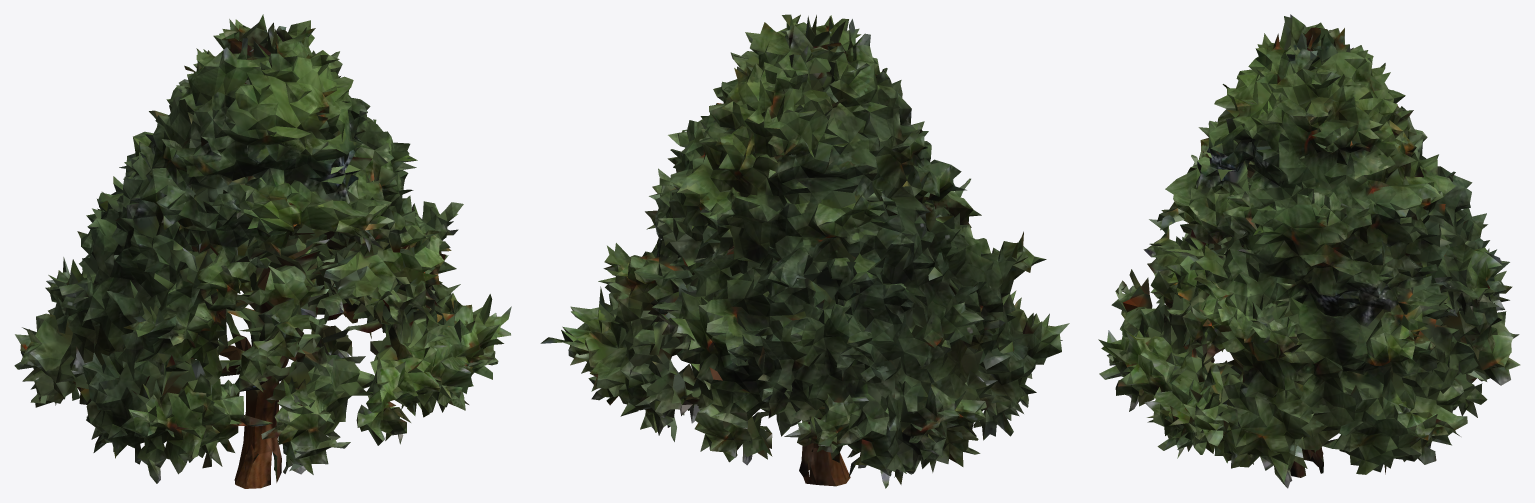
Rendered from traveler_env_coast_scorpion_grove_cedar_v2_00001_.glb.
3 renders of one model, left to right at view 1: azimuth 30°, elevation 25°; view 2: azimuth 150°, elevation 25°; view 3: azimuth 270°, elevation 25°, orthographic. The views are drawn at different scales.
Parts seen in each view (by area): view 1: temp_mesh.ply; view 2: temp_mesh.ply; view 3: temp_mesh.ply.
Boxes of the visible parts, x1,y1,x2,y2 form: temp_mesh.ply: [14, 14, 511, 488]; temp_mesh.ply: [540, 14, 1069, 488]; temp_mesh.ply: [1098, 14, 1520, 488].
Bounding box in the file's own units: 1.85 × 1.96 × 1.69.
1 material, 1 textured.
